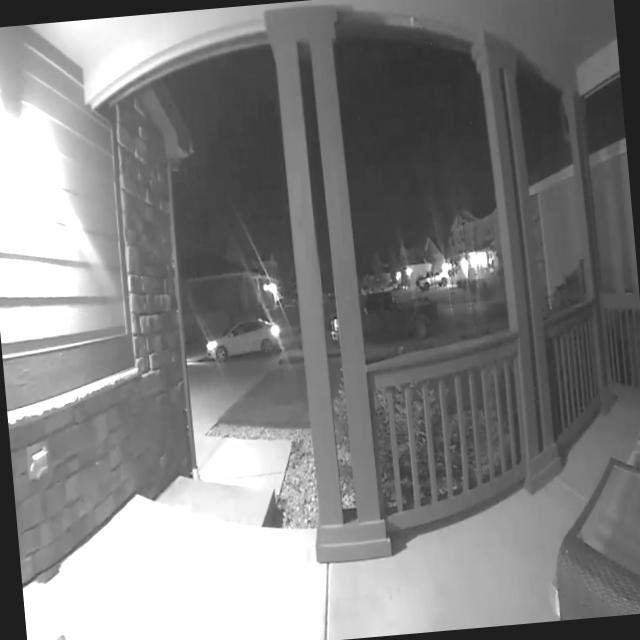car: (326, 265, 450, 348), (197, 302, 288, 366), (412, 258, 451, 294)
